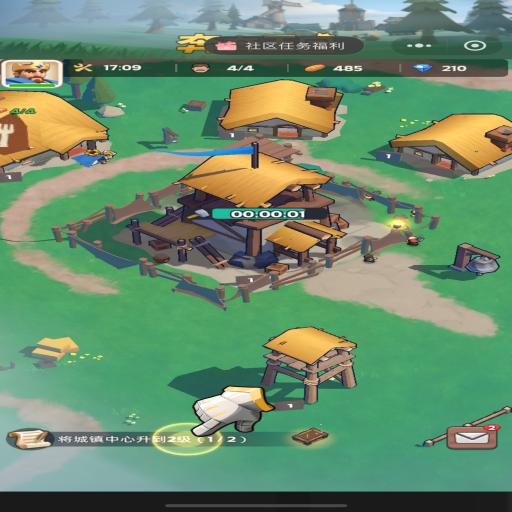newcomer_hand: (189, 385, 273, 436)
